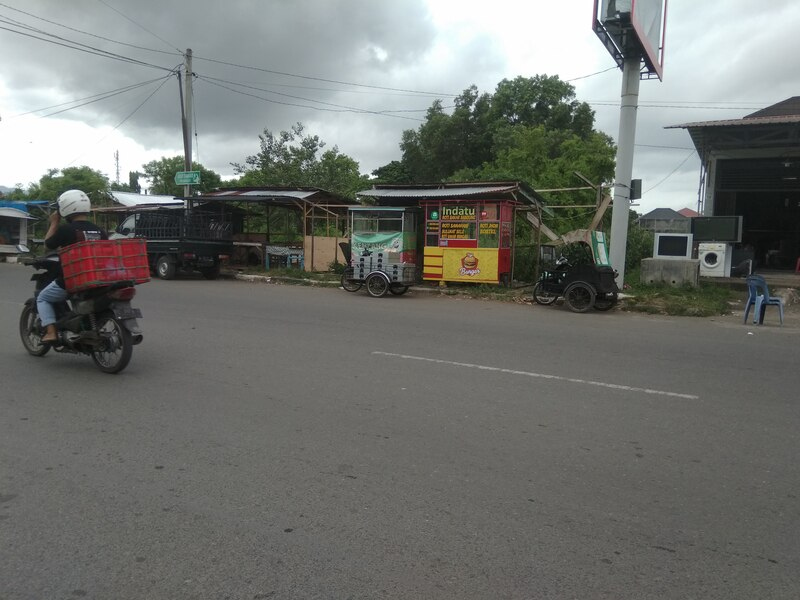becak barang: (341, 247, 422, 300)
